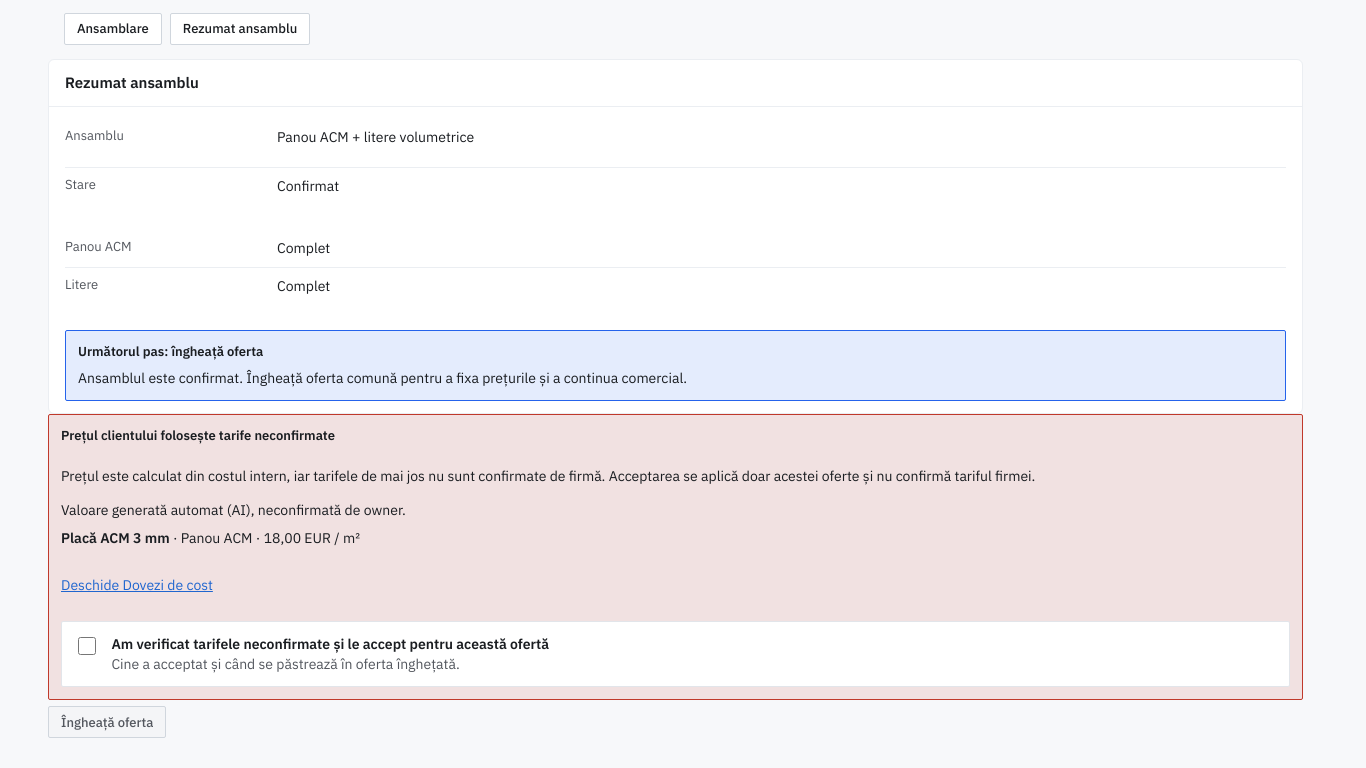
AssemblyPage › drops a stale acknowledgement and reloads the requirement when the server refuses it
(page scrolled)
Click the checkbox.
click(87, 646)  # box [78, 637, 96, 655]
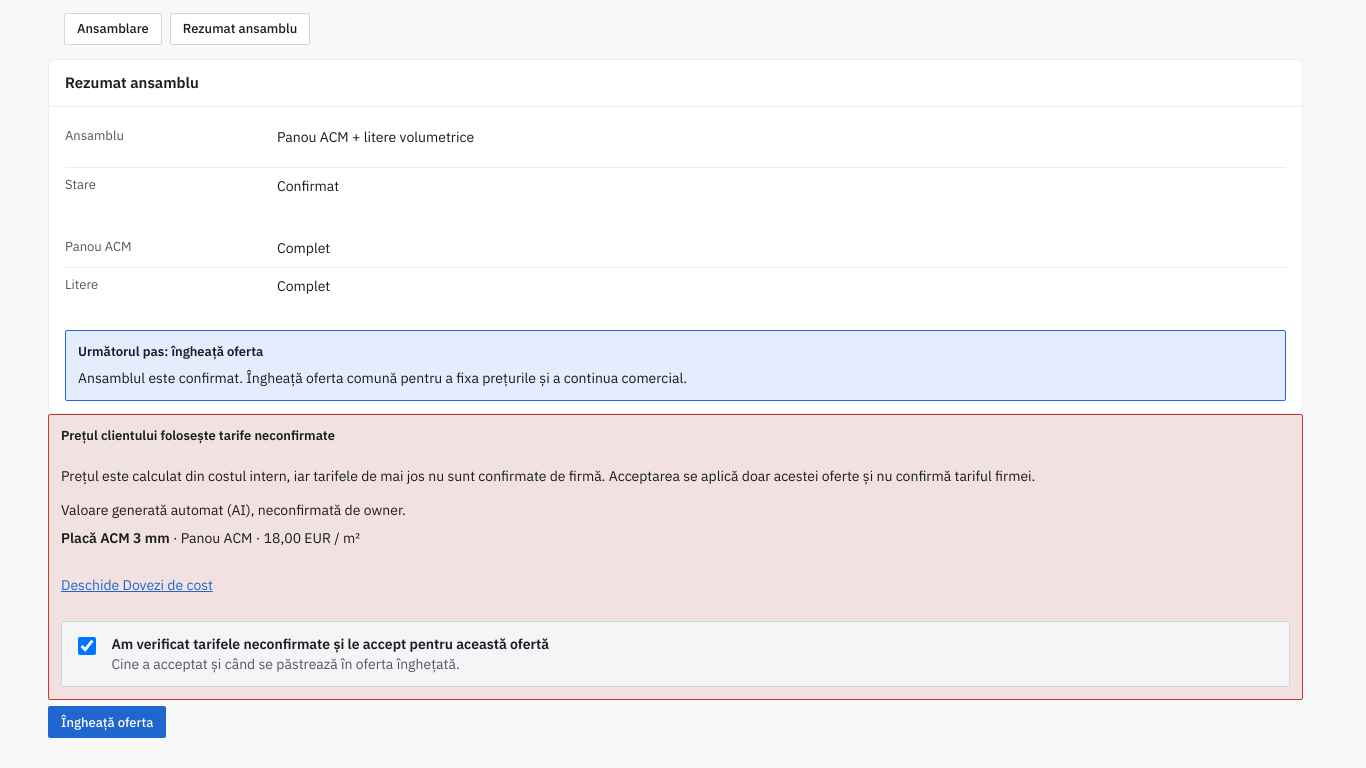
Expected: the button "Îngheață oferta" is enabled
Click the button "Îngheață oferta".
click(107, 722)  # box [48, 700, 166, 744]
(page scrolled)
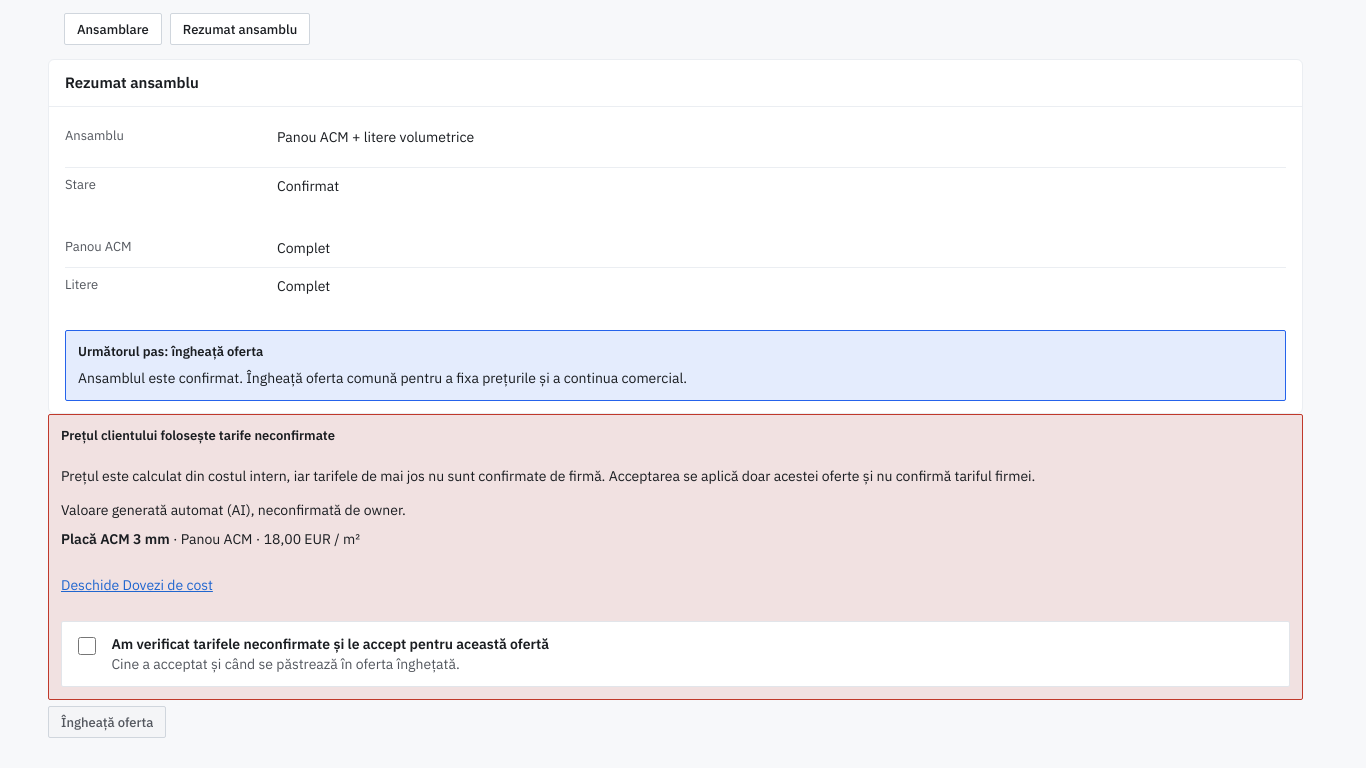
Expected: the checkbox is not checked, [78, 637, 96, 656]
Expected: the button "Îngheață oferta" is disabled, [48, 700, 166, 744]
